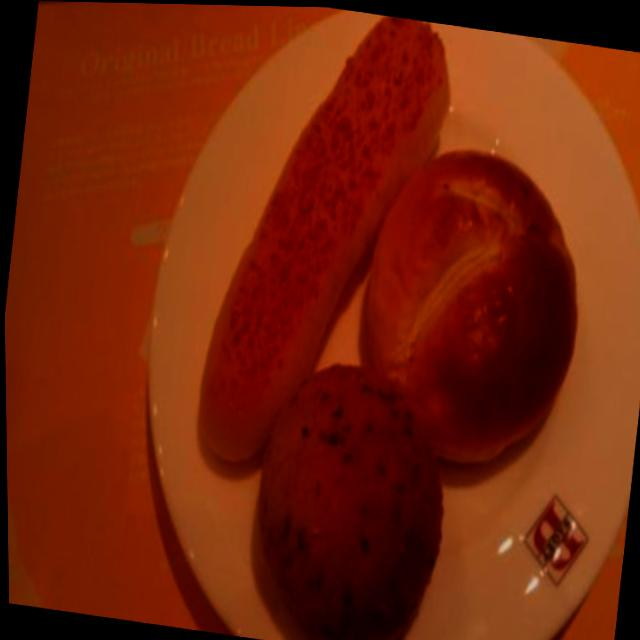三明治: (165, 3, 463, 473), (243, 364, 416, 640)
